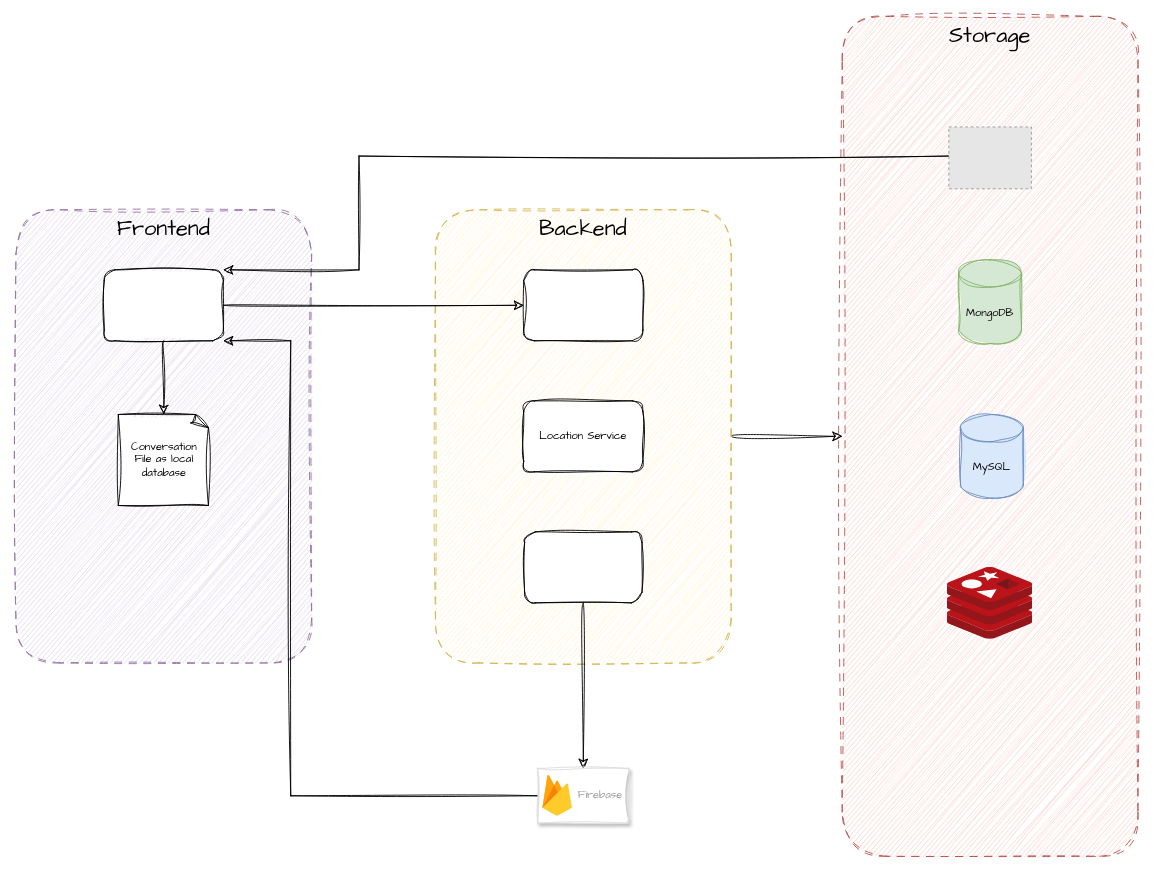
The diagram is 1154 pixels wide and 872 high, and some of its shapes have lost their labels. Grey dashed boxes stand in for pictures. The centre of each missing label's shape, as x and y in pixels:
API Server: point (583, 305)
Chat Service: point (583, 567)
Mobile App: point (163, 305)
